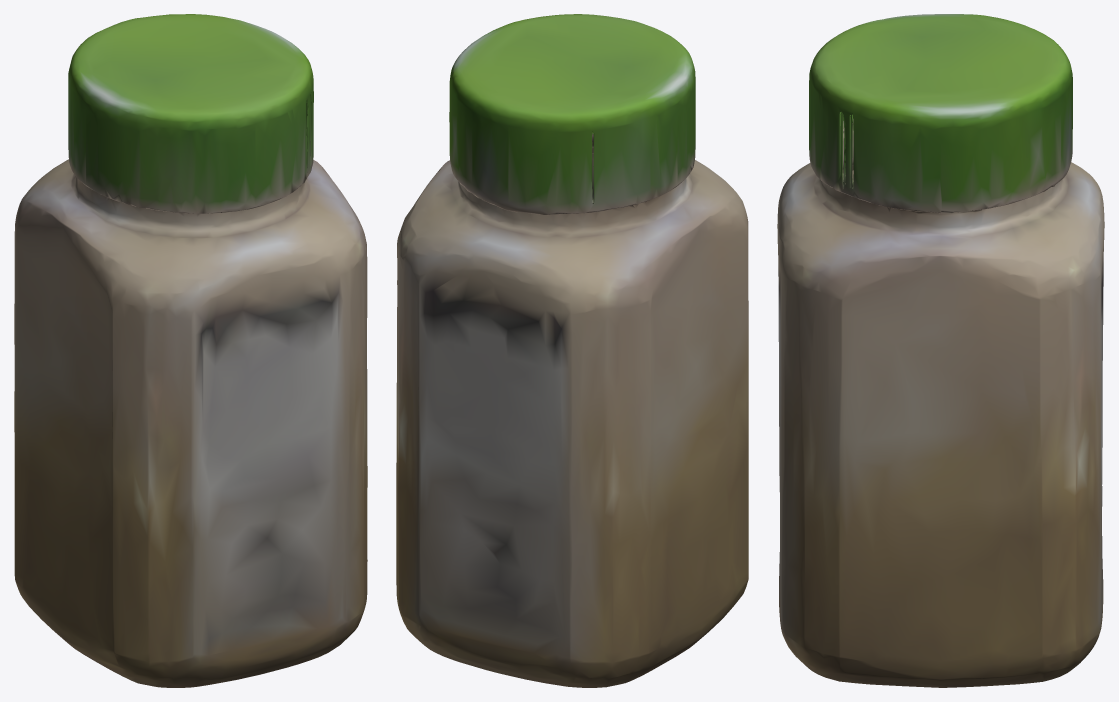
Rendered from jar.glb.
3 renders of one model, left to right at view 1: azimuth 30°, elevation 25°; view 2: azimuth 150°, elevation 25°; view 3: azimuth 270°, elevation 25°, orthographic. The views are drawn at different scales.
Parts seen in each view (by area): view 1: spice jar; view 2: spice jar; view 3: spice jar.
Part boxes in pixels (box(x1,y1,x2,y2)): spice jar: box(14, 14, 367, 687); spice jar: box(396, 14, 748, 687); spice jar: box(777, 14, 1104, 687).
Size of the model in its own units: 0.4804 by 0.9992 by 0.5154.
